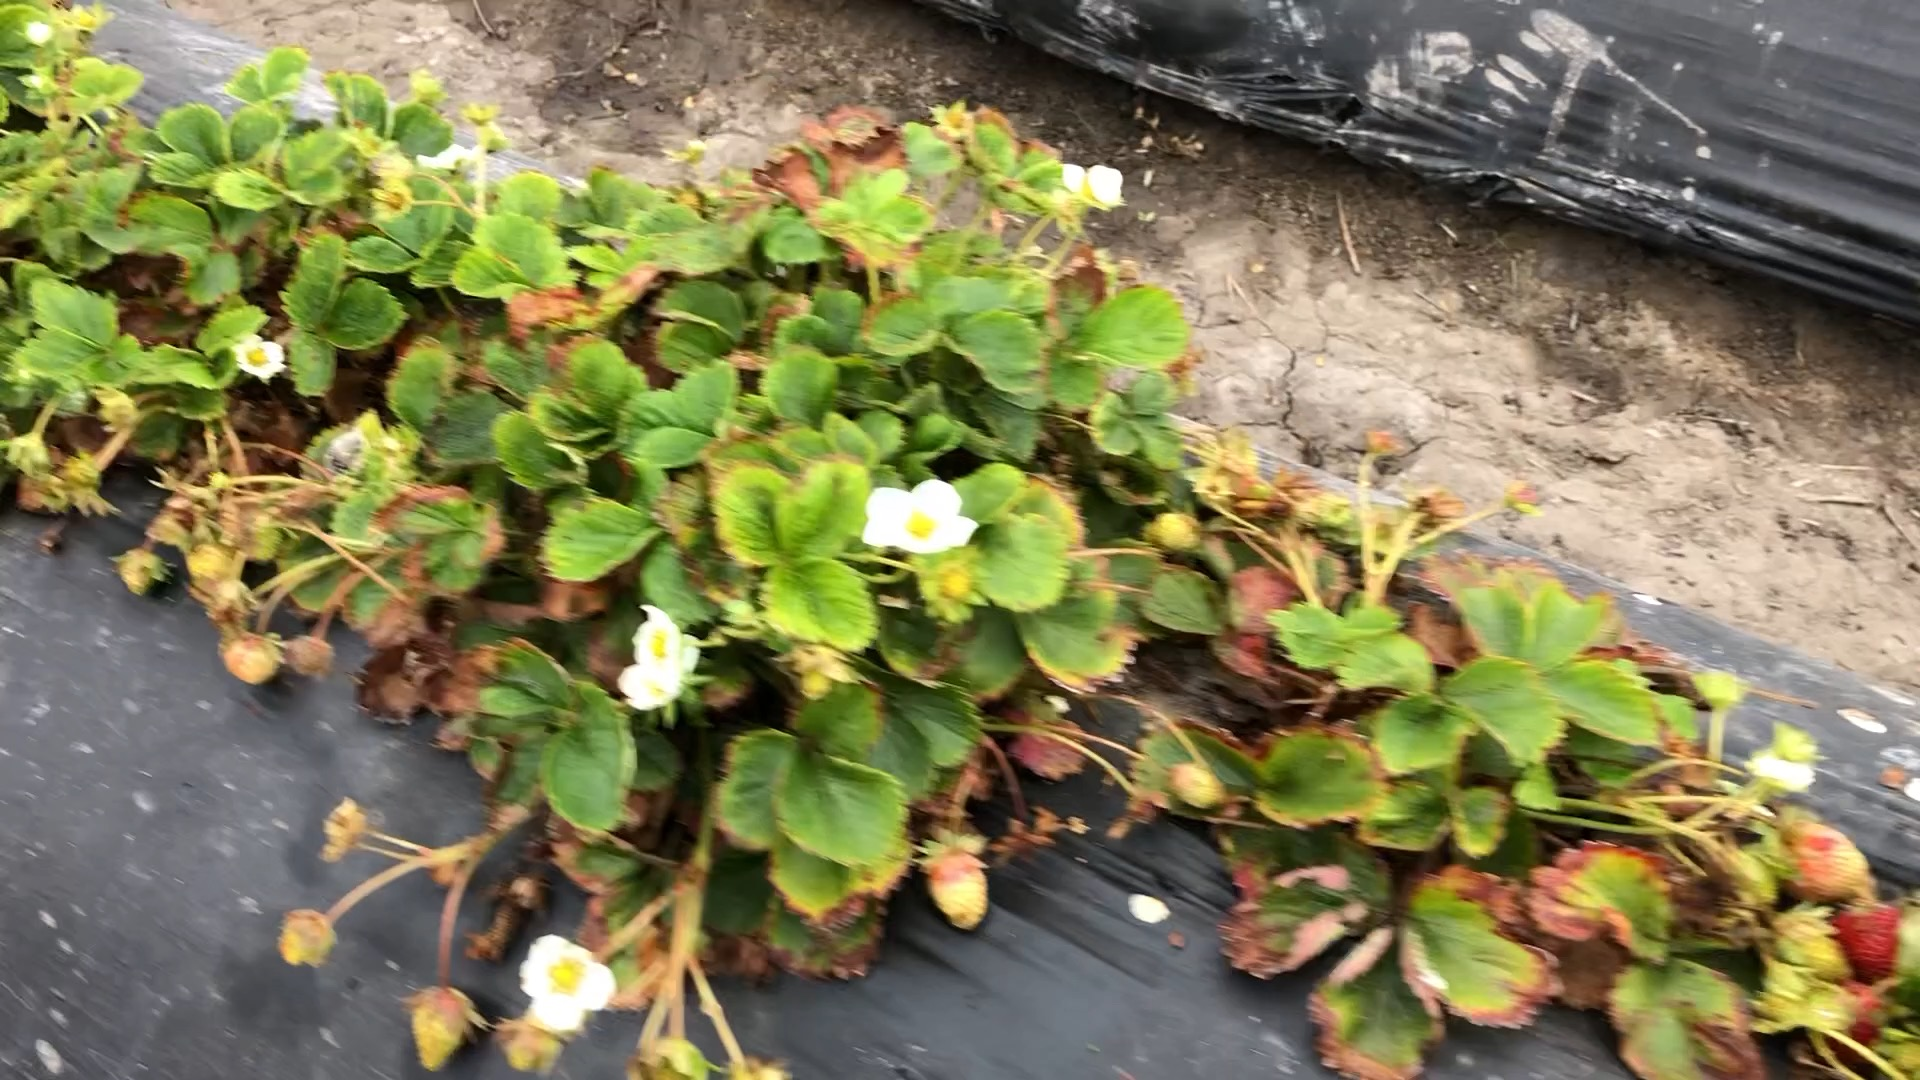ripe_strawberry: (1834, 899, 1912, 986), (1825, 985, 1892, 1063)
unripe_strawberry: (1780, 814, 1874, 905), (922, 847, 998, 938), (405, 985, 473, 1077), (276, 909, 338, 969), (219, 632, 285, 688), (116, 550, 160, 596), (186, 543, 233, 585)
